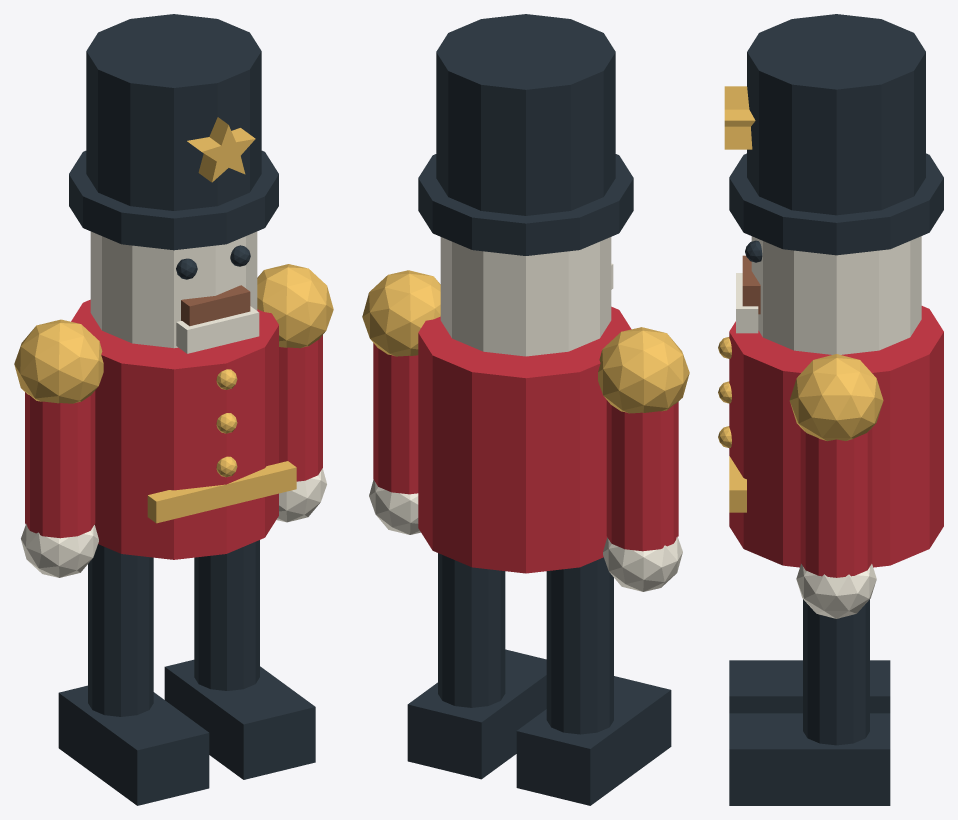
File: nutcracker.glb
The picture shows the model from 3 angles, left to right: view 1: azimuth 30°, elevation 25°; view 2: azimuth 150°, elevation 25°; view 3: azimuth 270°, elevation 25°; orthographic projection. The views are drawn at different scales.
Parts seen in each view (by area): view 1: nutcracker; view 2: nutcracker; view 3: nutcracker.
Boxes of the visible parts, x1,y1,x2,y2 form: nutcracker: [14, 14, 333, 805]; nutcracker: [362, 14, 689, 805]; nutcracker: [718, 14, 943, 805].
Bounding box in the file's own units: 0.81 × 1.75 × 0.505.
